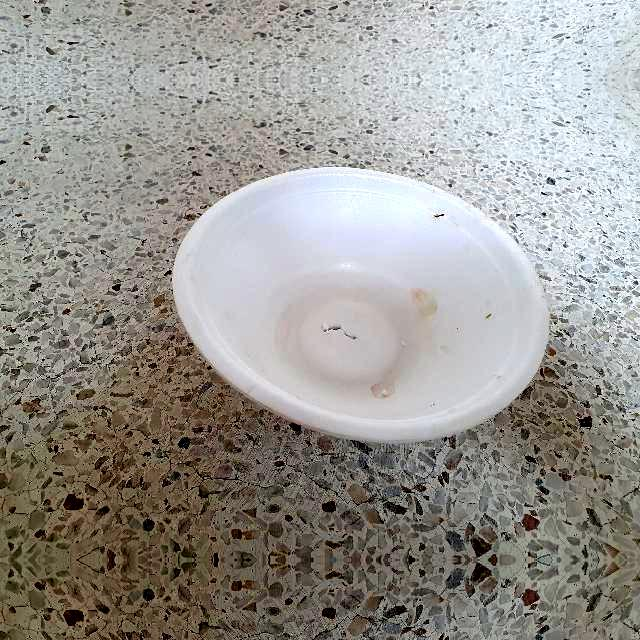Styrofoam: (172, 168, 552, 442), (173, 167, 550, 443)
